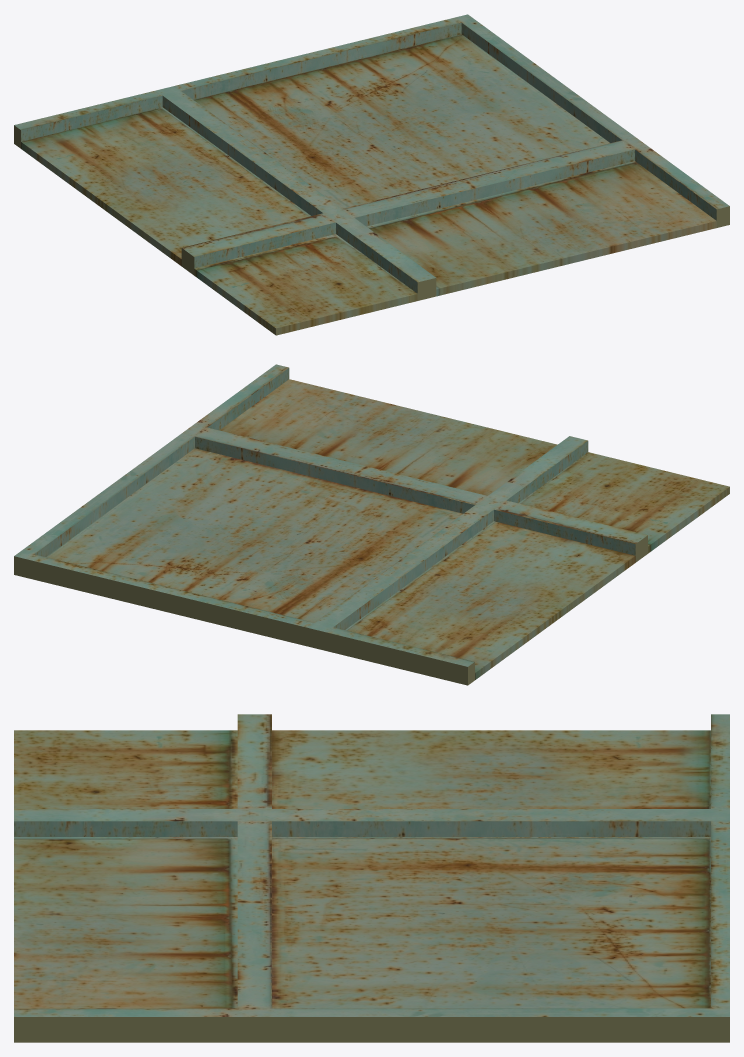
File: Metallplatte.glb
The picture shows the model from 3 angles, top to bottom: view 1: azimuth 30°, elevation 25°; view 2: azimuth 150°, elevation 25°; view 3: azimuth 270°, elevation 25°; orthographic projection. The views are drawn at different scales.
Visible parts, largest first — view 1: MetallPlatte; view 2: MetallPlatte; view 3: MetallPlatte.
Boxes of the visible parts, left/top/right/bottom form: MetallPlatte: left=14, top=14, right=729, bottom=335; MetallPlatte: left=14, top=364, right=729, bottom=685; MetallPlatte: left=14, top=714, right=729, bottom=1042.
Size of the model in its own units: 1 by 0.0393 by 1.
Materials: 1 (1 with a texture image).
